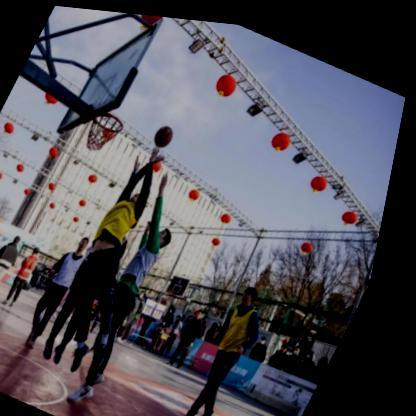basketball: (155, 119, 181, 147)
